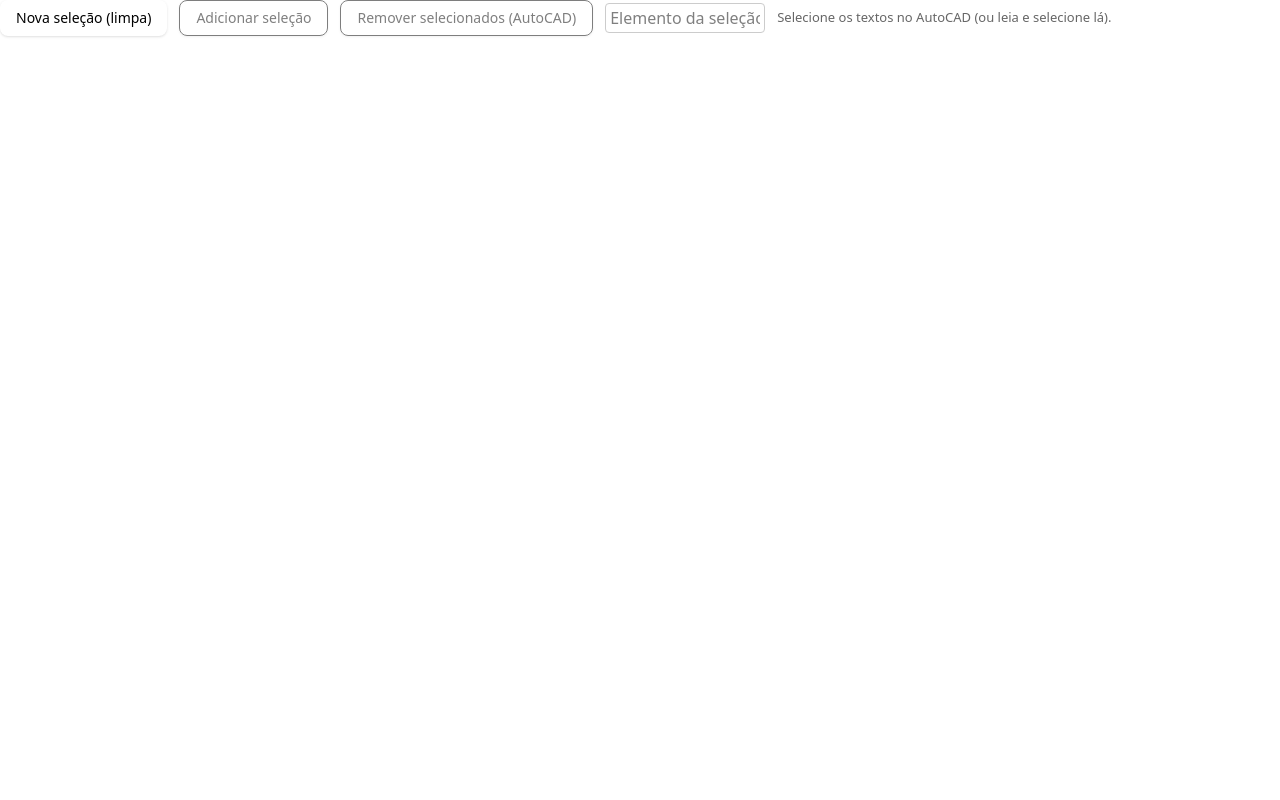
Test: título ordena e funil filtra a grade (R-FER-UI-001)
Click the button "Nova seleção (limpa)": (84, 18) [0,0,167,36]
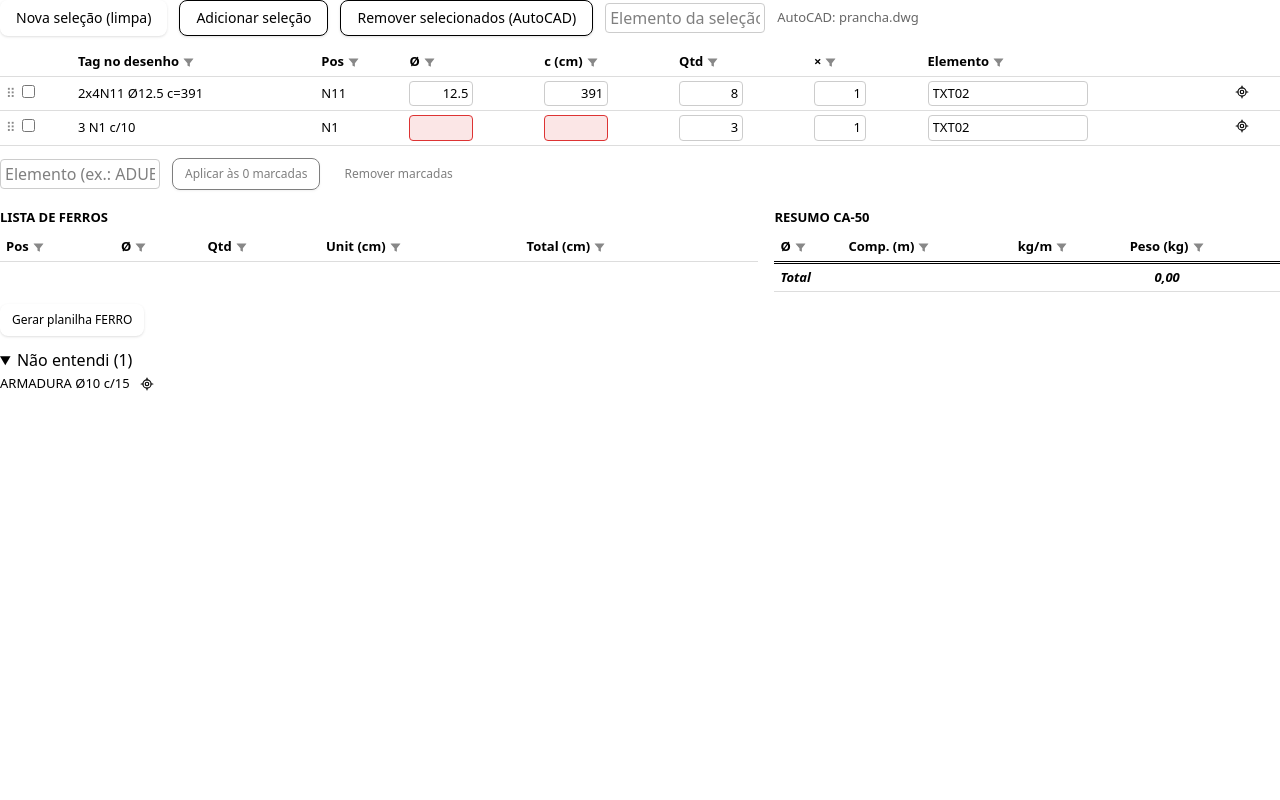
expect the text "2x4N11 Ø12.5 c=391" is shown: met, box [72,76,315,110]
expect the row "⠿ 2x4N11 Ø12.5 c=391 N11" is shown: met, box [0,76,1279,110]
Click the button with aria-label "Ordenar por Pos": (333, 62) [321,52,344,72]
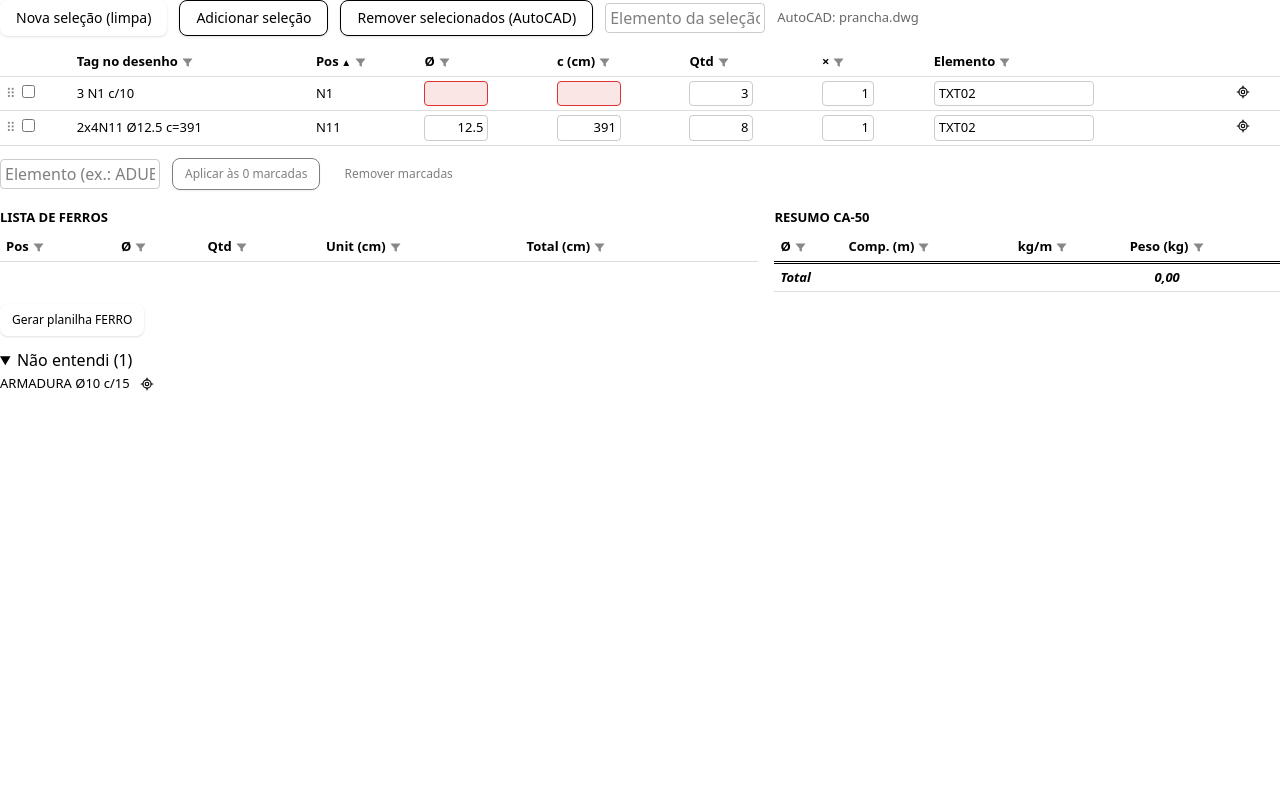
expect the row "⠿ 3 N1 c/10 N1" is shown: met, box [0,76,1279,110]
Click the 1st button named "Filtrar Pos": (359, 62) [351,57,366,68]
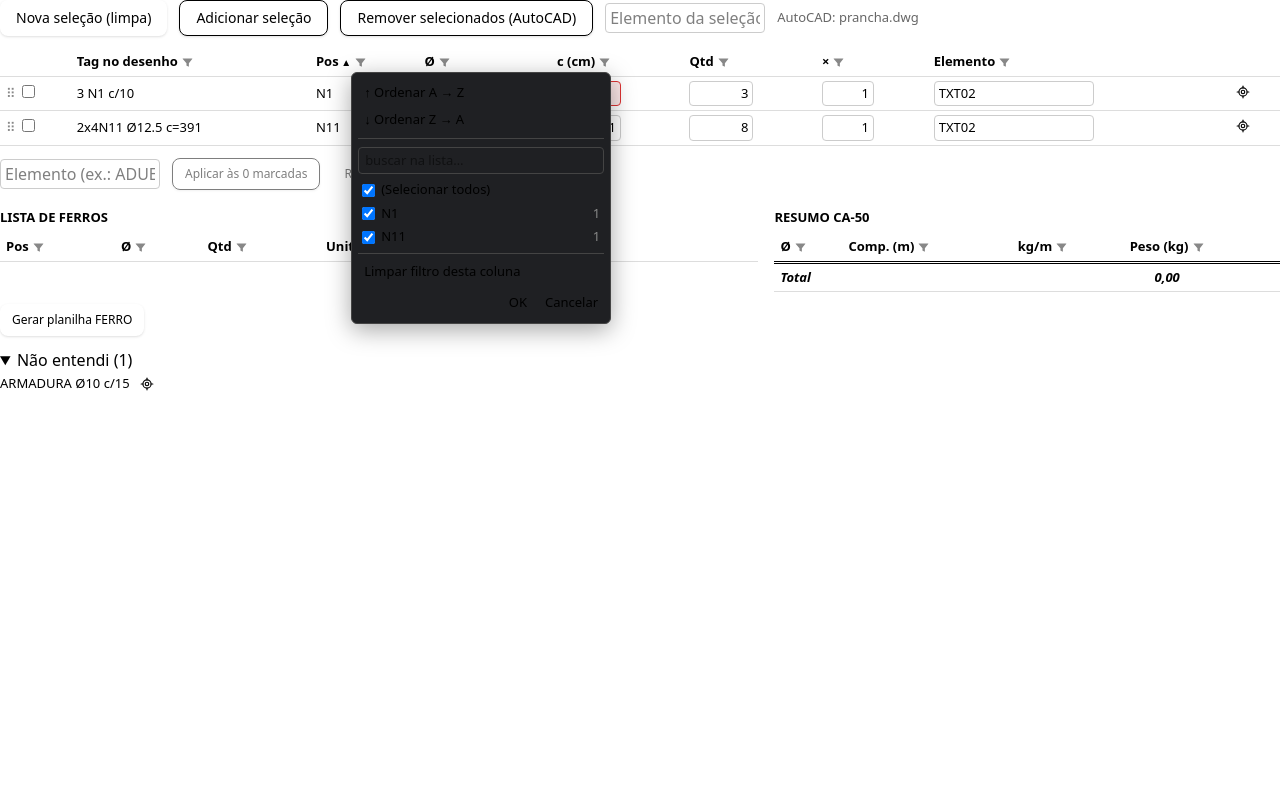
Click the checkbox labelled "N1 1": (369, 214) [362,207,375,220]
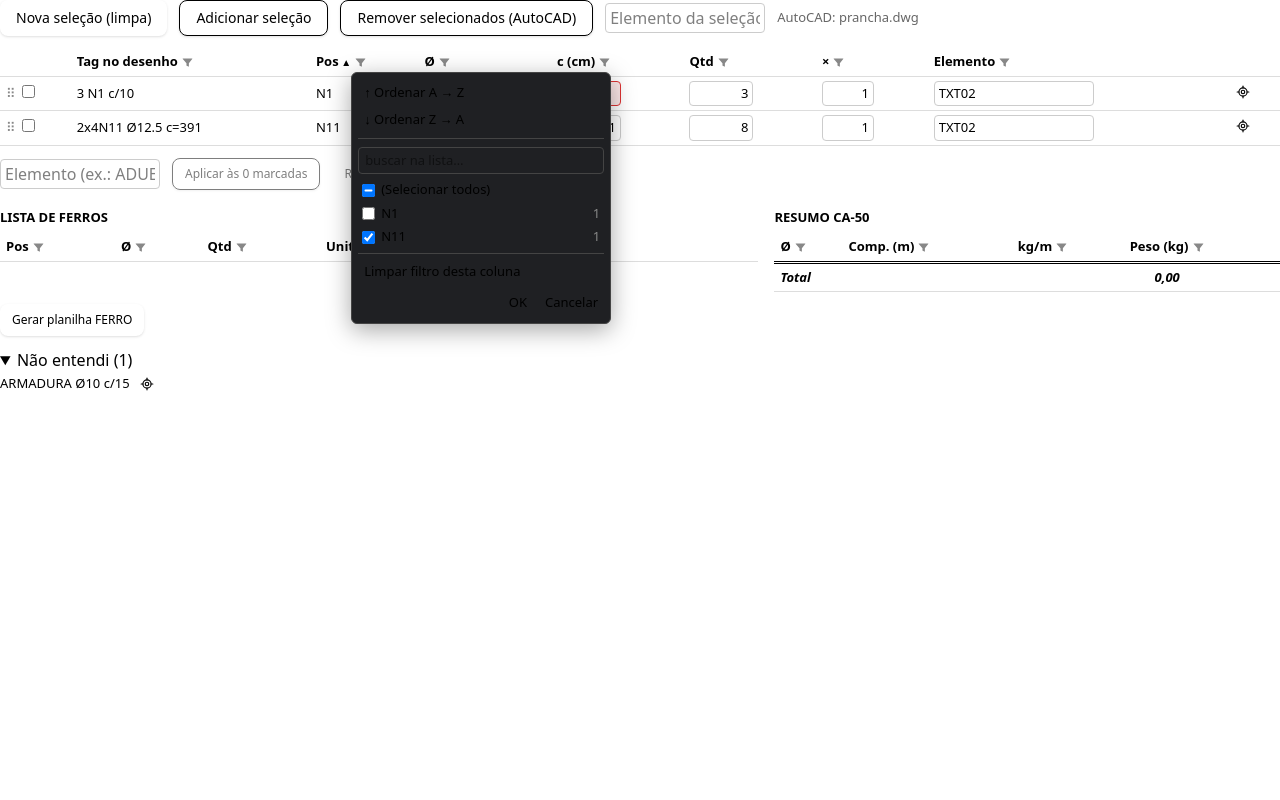
Click the button "OK": (518, 303) [503,290,533,317]
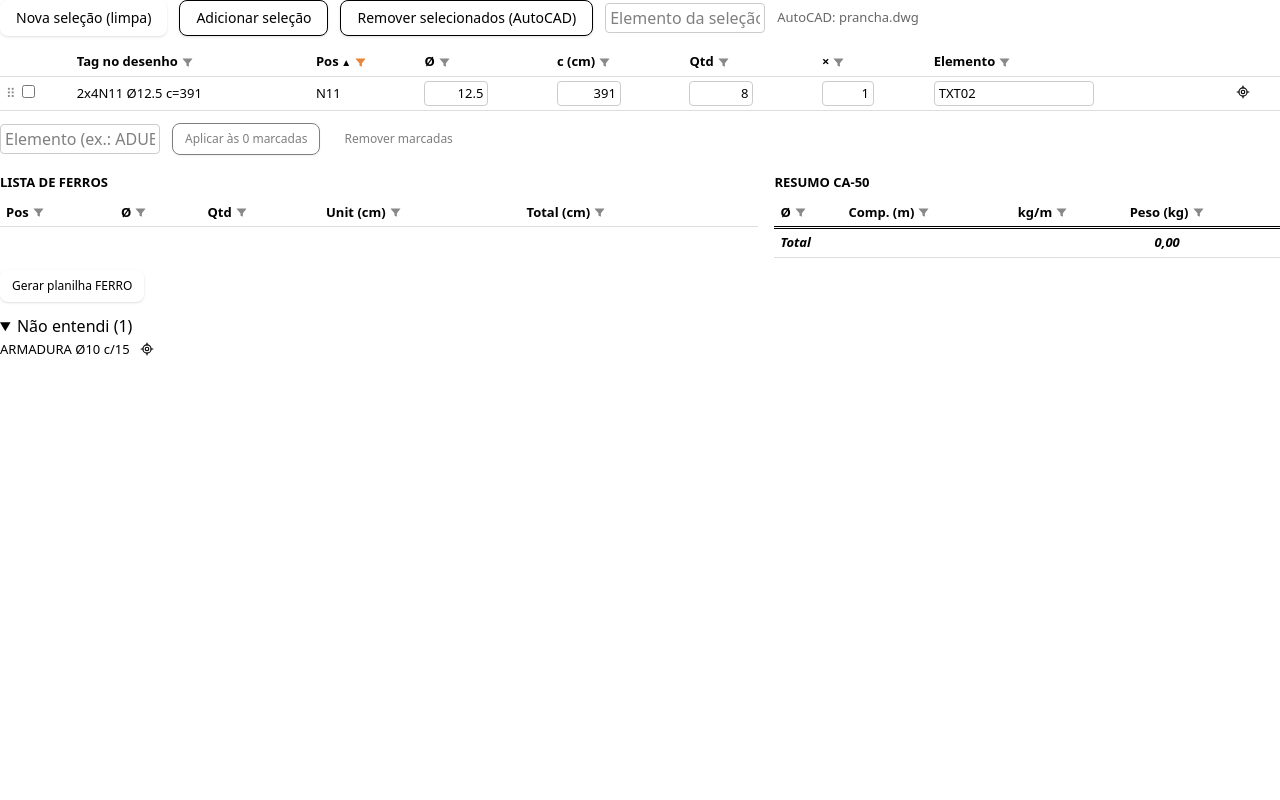
expect the text "2x4N11 Ø12.5 c=391" is shown: met, box [71,76,310,110]
expect the text "3 N1 c/10" is gone: met
